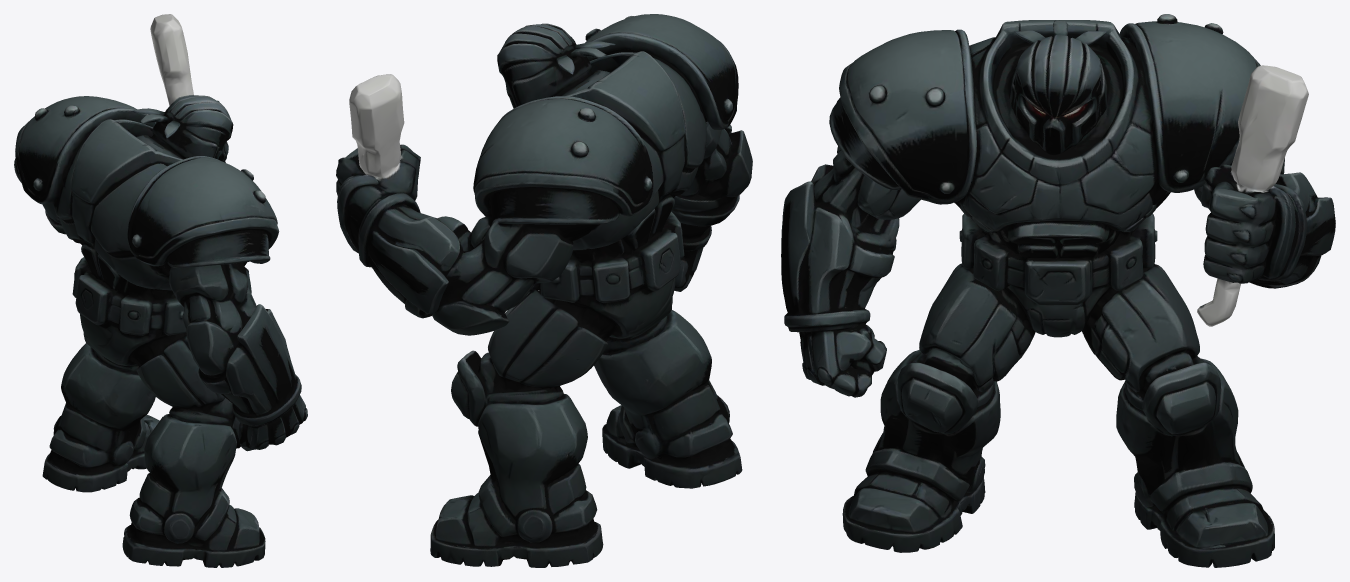
The model's file is overlord.glb.
The picture shows the model from 3 angles, left to right: view 1: azimuth 30°, elevation 25°; view 2: azimuth 150°, elevation 25°; view 3: azimuth 270°, elevation 25°; orthographic projection. The views are drawn at different scales.
Visible parts, largest first — view 1: tripo_node_54f87ada-06d7-4e6a-89fd-42f54dad600c; view 2: tripo_node_54f87ada-06d7-4e6a-89fd-42f54dad600c; view 3: tripo_node_54f87ada-06d7-4e6a-89fd-42f54dad600c.
Boxes of the visible parts, bbox=[...] form: tripo_node_54f87ada-06d7-4e6a-89fd-42f54dad600c: bbox=[14, 14, 307, 567]; tripo_node_54f87ada-06d7-4e6a-89fd-42f54dad600c: bbox=[336, 14, 752, 567]; tripo_node_54f87ada-06d7-4e6a-89fd-42f54dad600c: bbox=[781, 14, 1335, 567].
Bounding box in the file's own units: 0.594 × 1 × 0.9711.
1 material, 1 textured.
